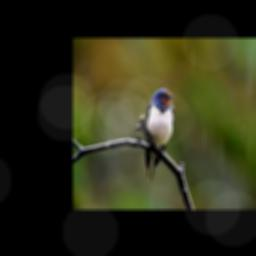Swallow: (145, 88, 175, 180)
